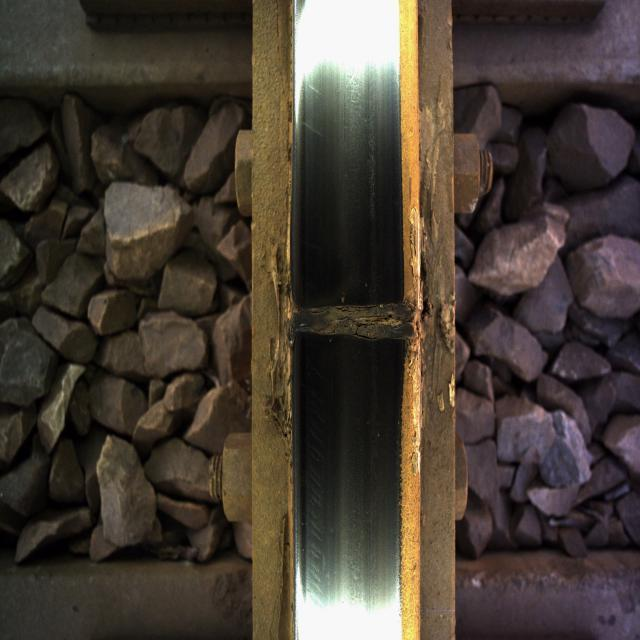spalling: (264, 258, 451, 378)
